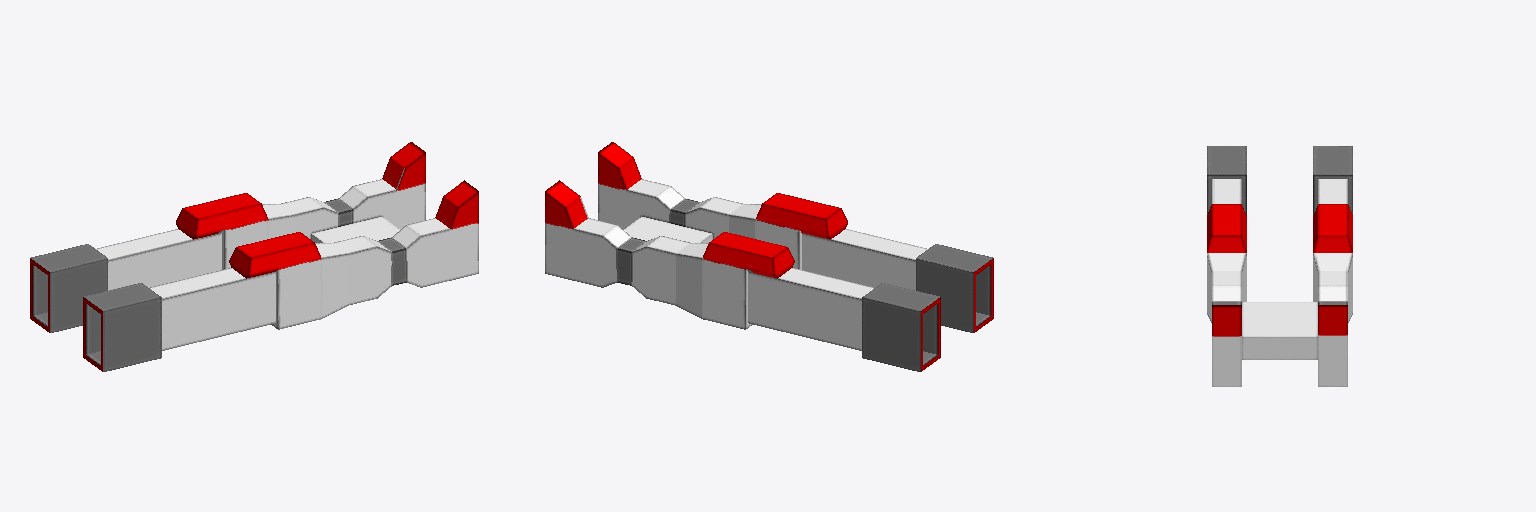
The picture shows the model from 3 angles: view 1: azimuth 30°, elevation 25°; view 2: azimuth 150°, elevation 25°; view 3: azimuth 270°, elevation 25°; orthographic projection.
Parts seen in each view (by area): view 1: Box003.001; view 2: Box003.001; view 3: Box003.001.
Boxes of the visible parts, <box> form: Box003.001: <box>30,142,478,371</box>; Box003.001: <box>545,142,993,371</box>; Box003.001: <box>1207,146,1352,386</box>.
Size of the model in its own units: 14.44 by 3.17 by 4.85.
1 materials, 1 textured.